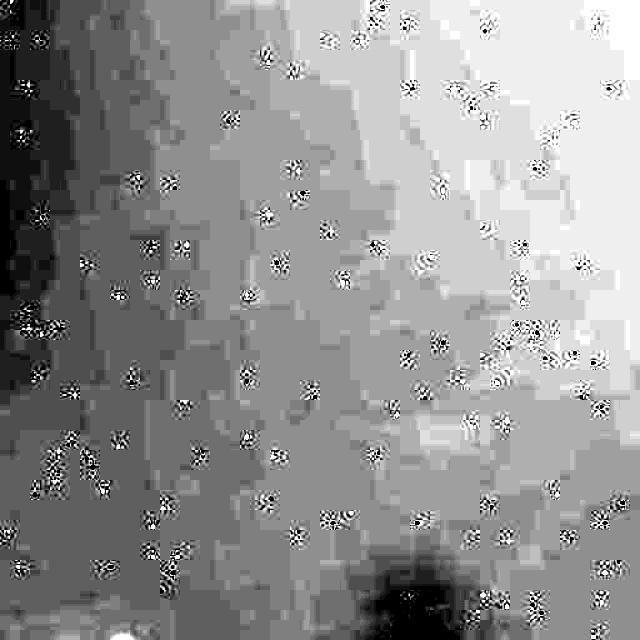airplane: (345, 594, 515, 640)
